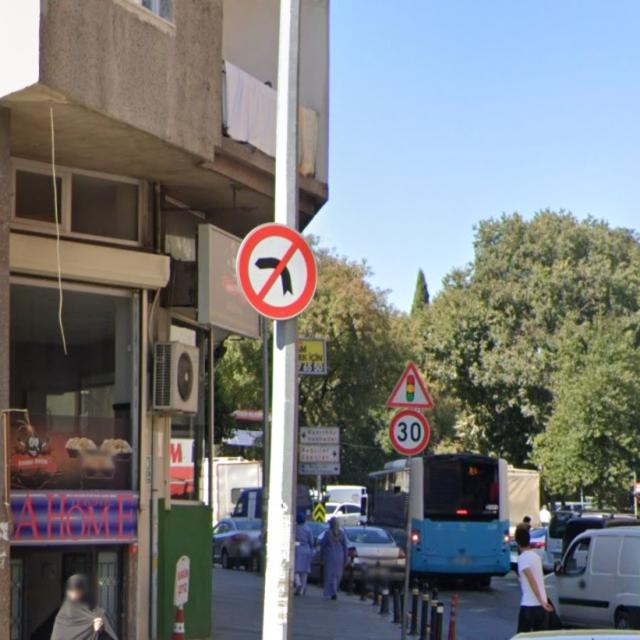30: (389, 410, 429, 458)
soladonulmez: (236, 223, 317, 321)
